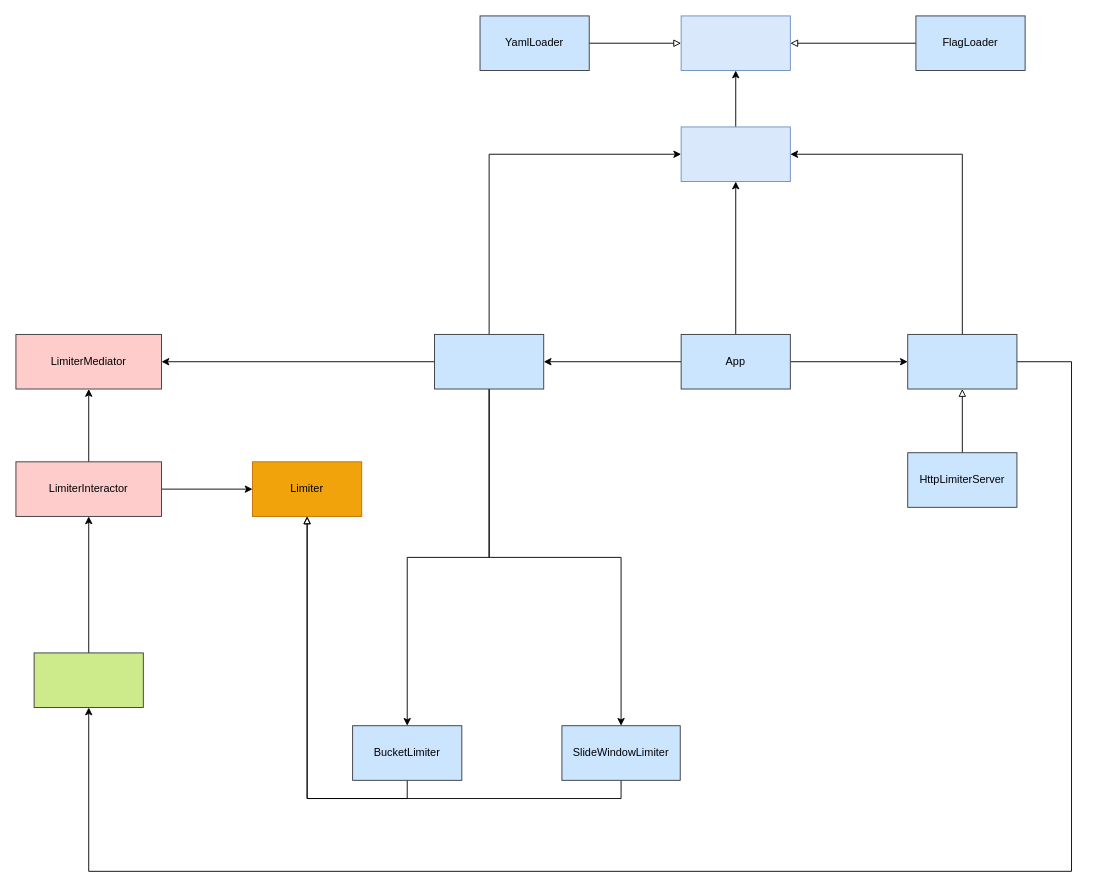
Some shapes in this 1095 by 895 pixel diagram are drawn without their labels. Here are the shapes that lost their labels. From the top down, the centre of each, then its label:
[735,43]: ConfigLoader
[735,154]: Config
[489,361]: LimitersRegistry
[962,361]: LimiterServer
[88,680]: LimiterController
